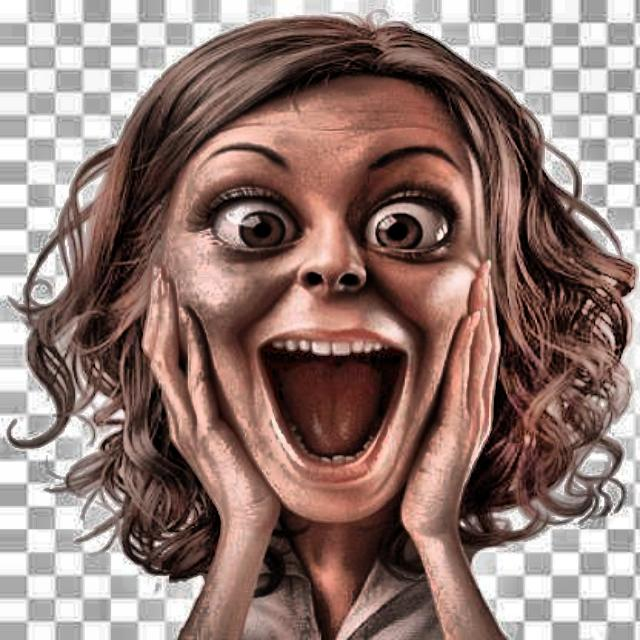surprised: (95, 11, 570, 514)
